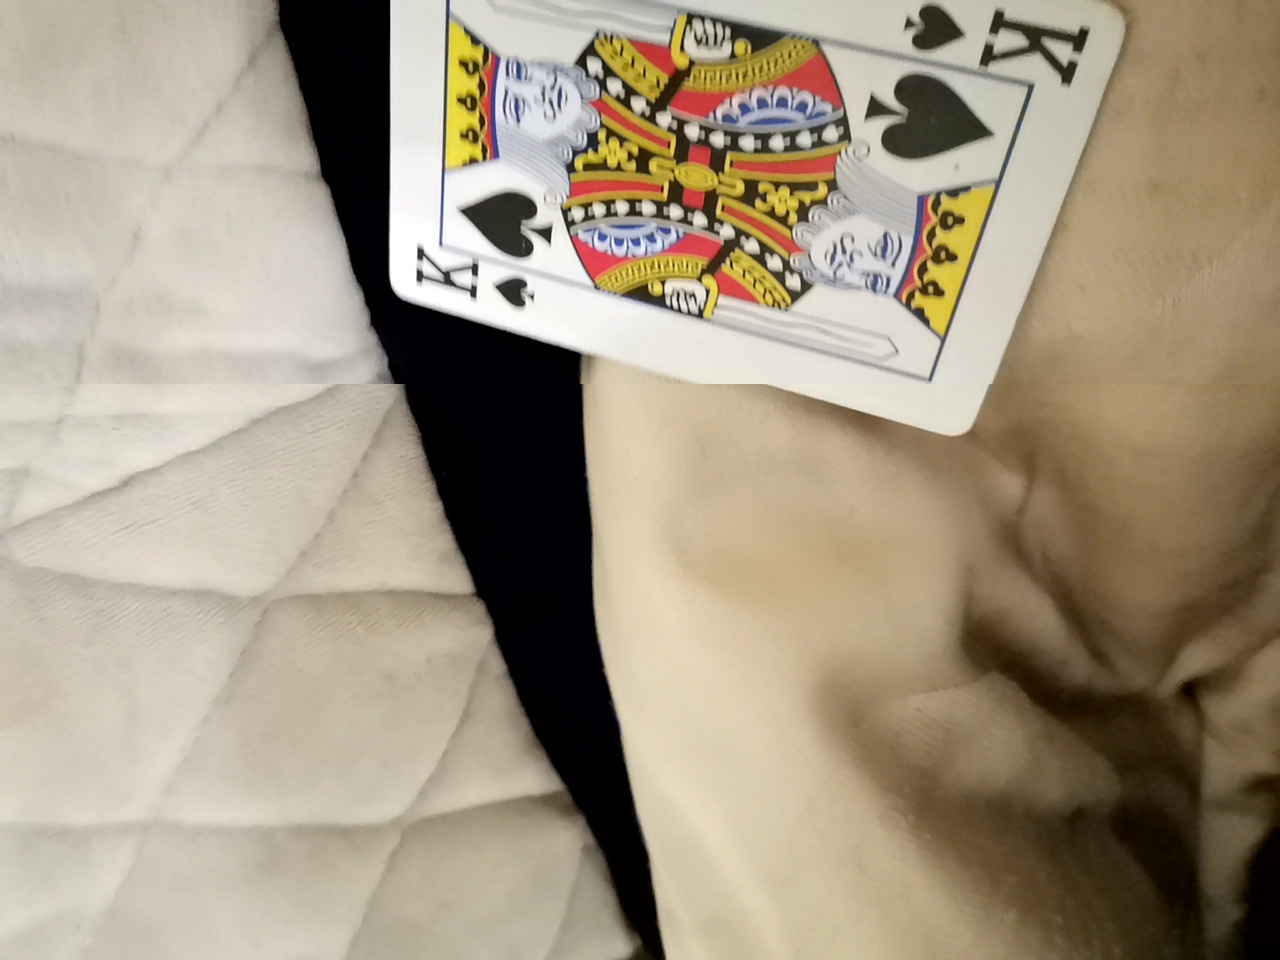ht k: (352, 0, 1126, 472)
